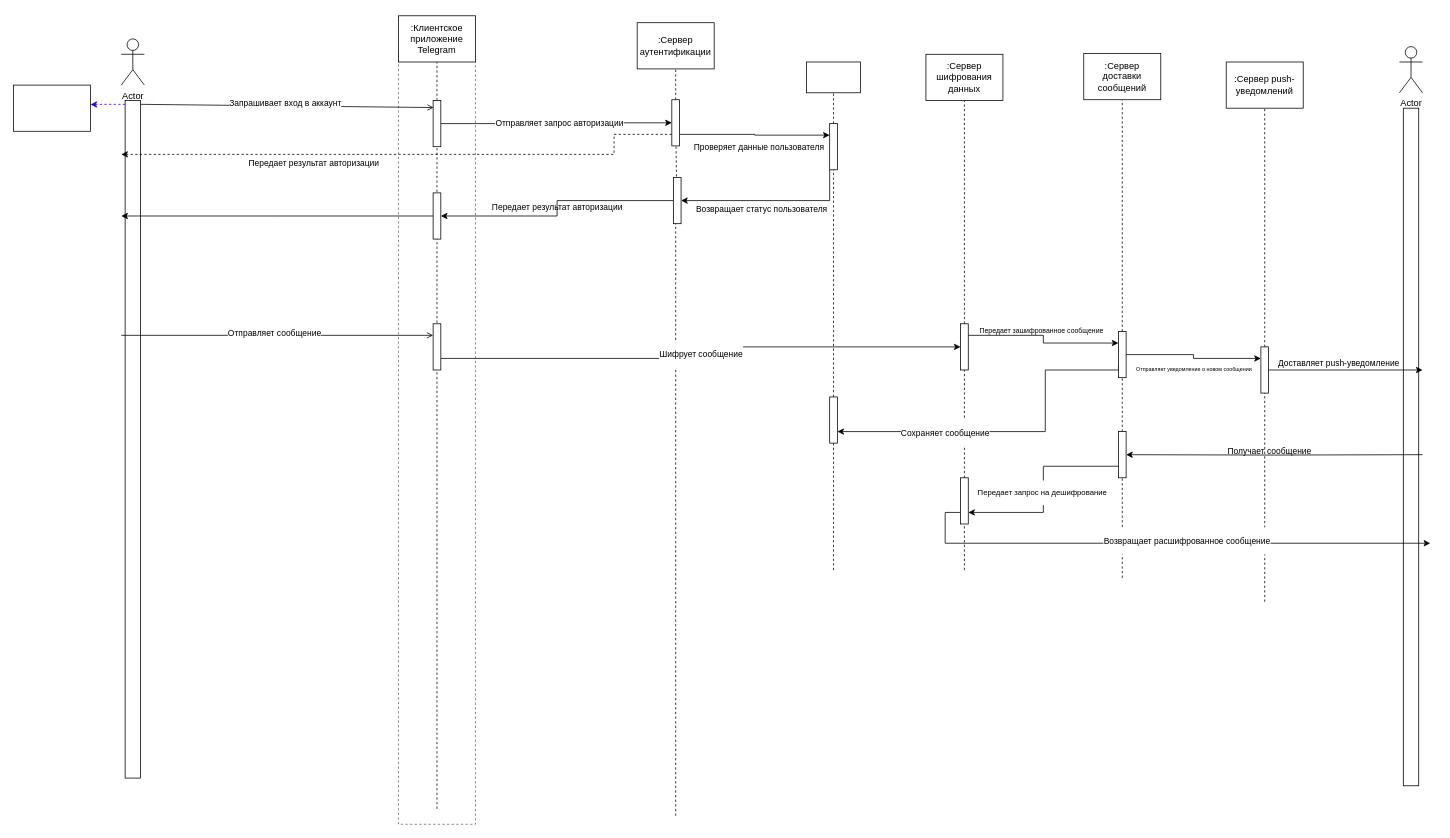
Image size: 1450x838. Some labels were removed from this diagram. Each missing label, with the centre of its shape:
: База данных: point 833,77
:приложение Telegram: point 51,107
